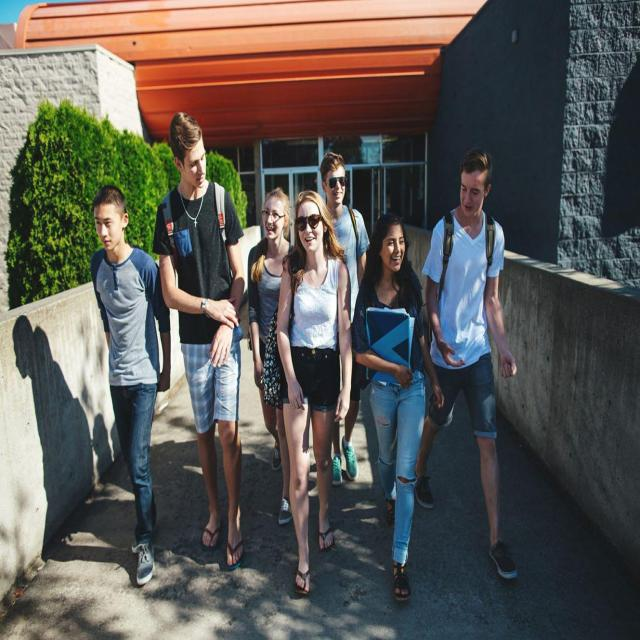body: (408, 144, 522, 583), (150, 109, 251, 576), (259, 188, 357, 600), (350, 210, 447, 606), (88, 182, 172, 587), (5, 312, 126, 565), (318, 150, 372, 491), (246, 188, 296, 527)
